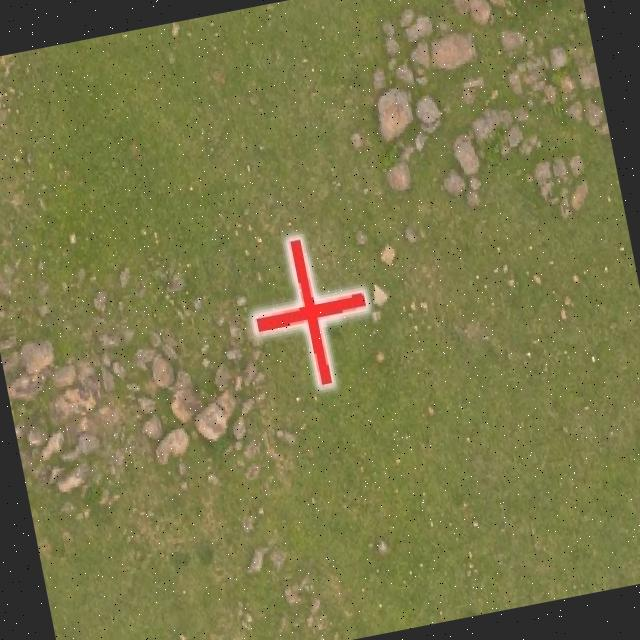x_marker: (240, 229, 378, 394)
